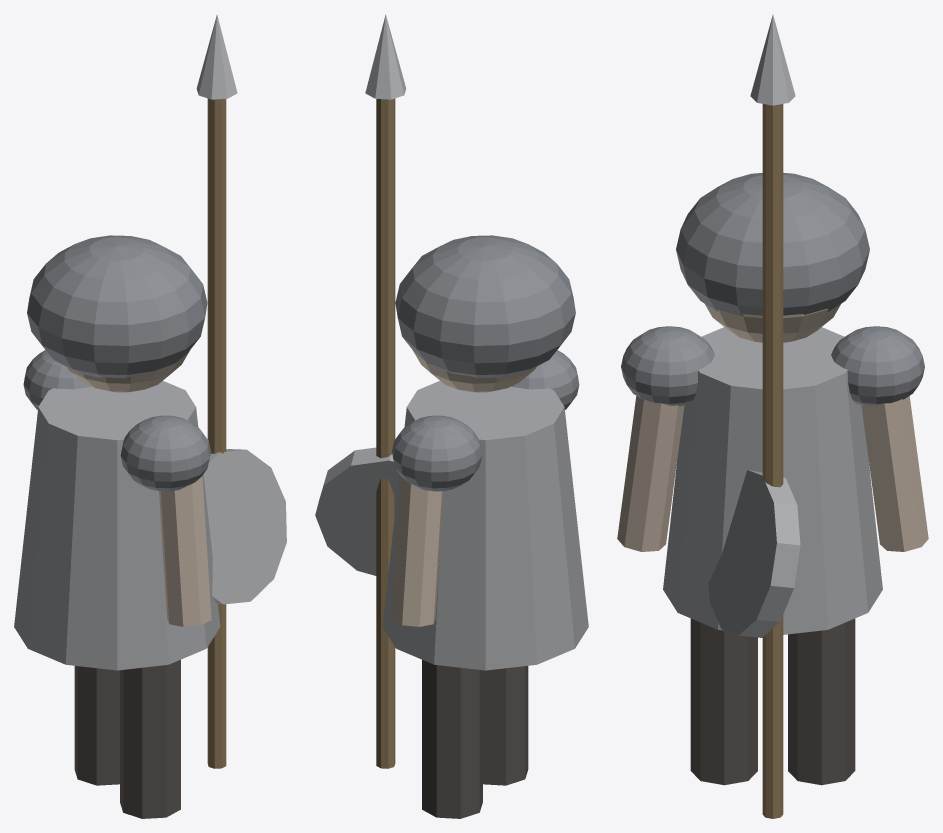
File: hero_militia.glb
3 views of the same model, side by side, from view 1: azimuth 30°, elevation 25°; view 2: azimuth 150°, elevation 25°; view 3: azimuth 270°, elevation 25° (orthographic). The views are drawn at different scales.
Visible parts, largest first — view 1: figurka; view 2: figurka; view 3: figurka.
Part boxes in pixels (x1,y1,x2,y2): figurka: (14, 14, 286, 818); figurka: (315, 14, 588, 818); figurka: (617, 15, 928, 818).
Bounding box in the file's own units: 0.4888 × 1.37 × 0.4814.
